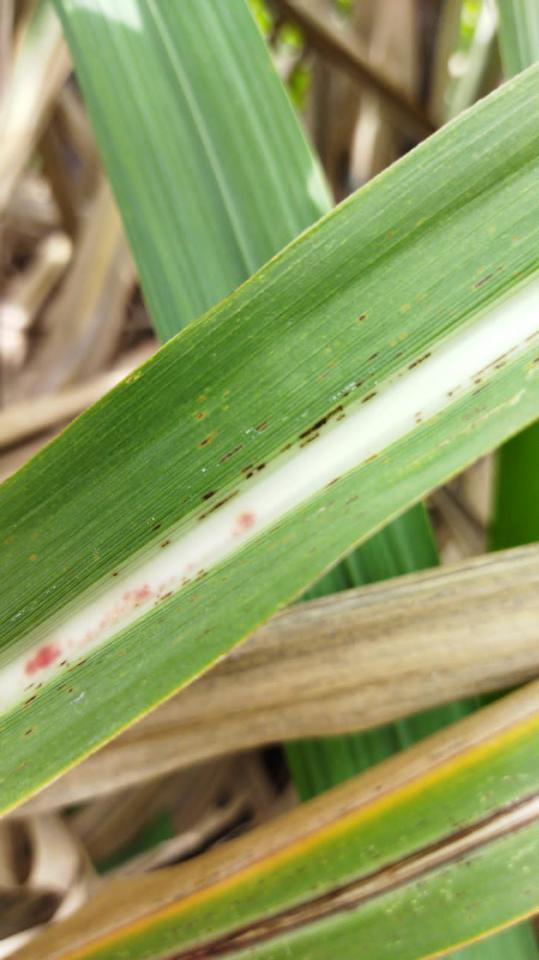RedRot: (171, 789, 539, 958), (98, 563, 199, 632), (18, 643, 68, 678), (228, 507, 259, 544)
Rust: (278, 344, 434, 459), (445, 328, 539, 404), (16, 655, 107, 713), (197, 458, 271, 524), (147, 562, 216, 612), (193, 384, 239, 429), (216, 439, 251, 468), (471, 262, 508, 289), (315, 476, 345, 493), (250, 414, 273, 433), (195, 432, 220, 449), (362, 446, 385, 464), (19, 725, 37, 743), (354, 310, 370, 327), (147, 519, 164, 533), (161, 537, 177, 551), (413, 410, 425, 425), (108, 570, 118, 580)
Yellow: (48, 709, 539, 959), (0, 582, 312, 820), (408, 904, 539, 959)
